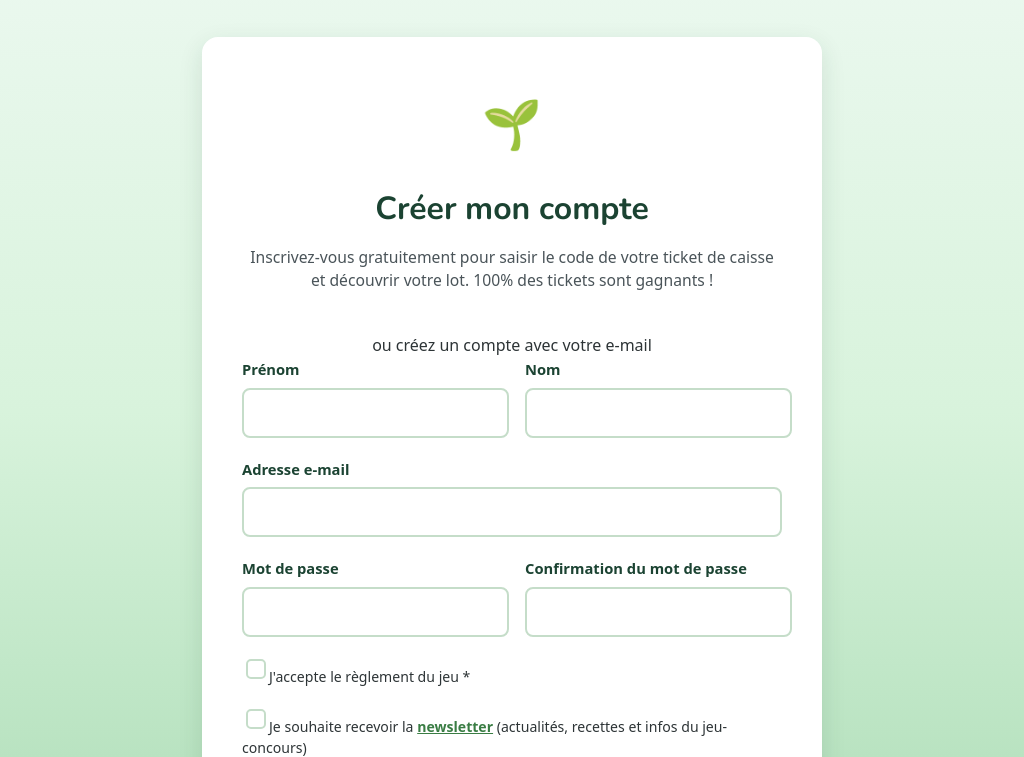
Inscription › affiche l’erreur renvoyée par l’API
In the field labelled "Prénom": (376,413) x1=242 y1=388 x2=509 y2=438, type "Jean"
In the field labelled "Nom": (658,413) x1=525 y1=388 x2=792 y2=438, type "Dupont"
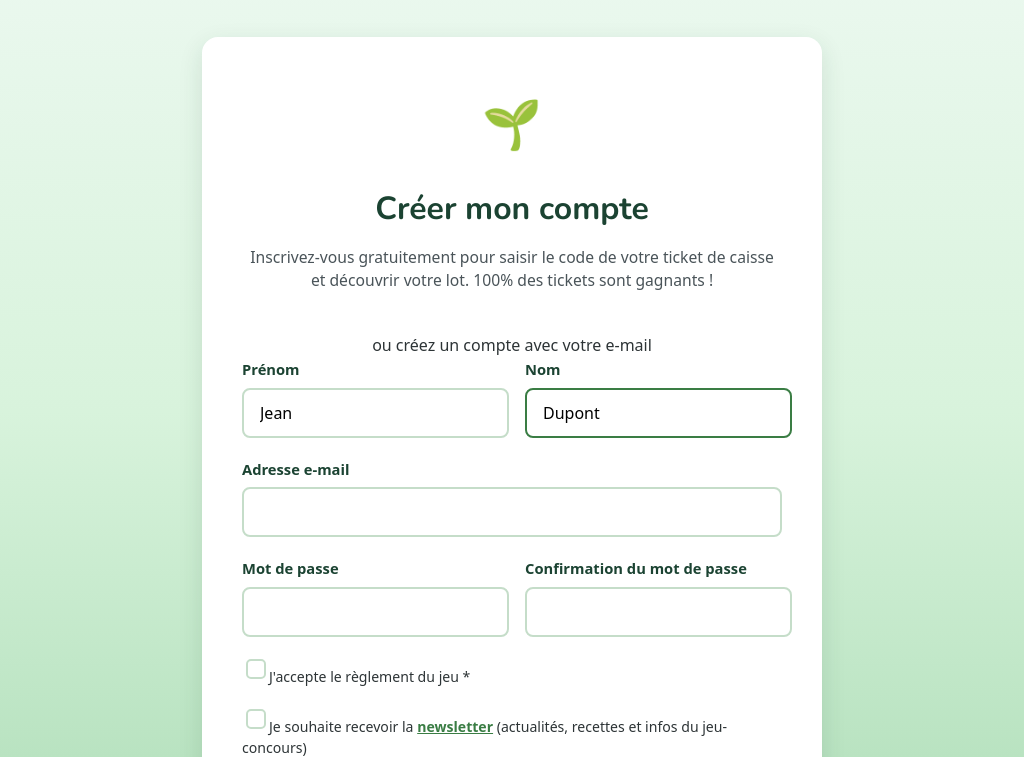
In the field labelled "Adresse e-mail": (512,512) x1=242 y1=487 x2=782 y2=537, type "jean@example.com"
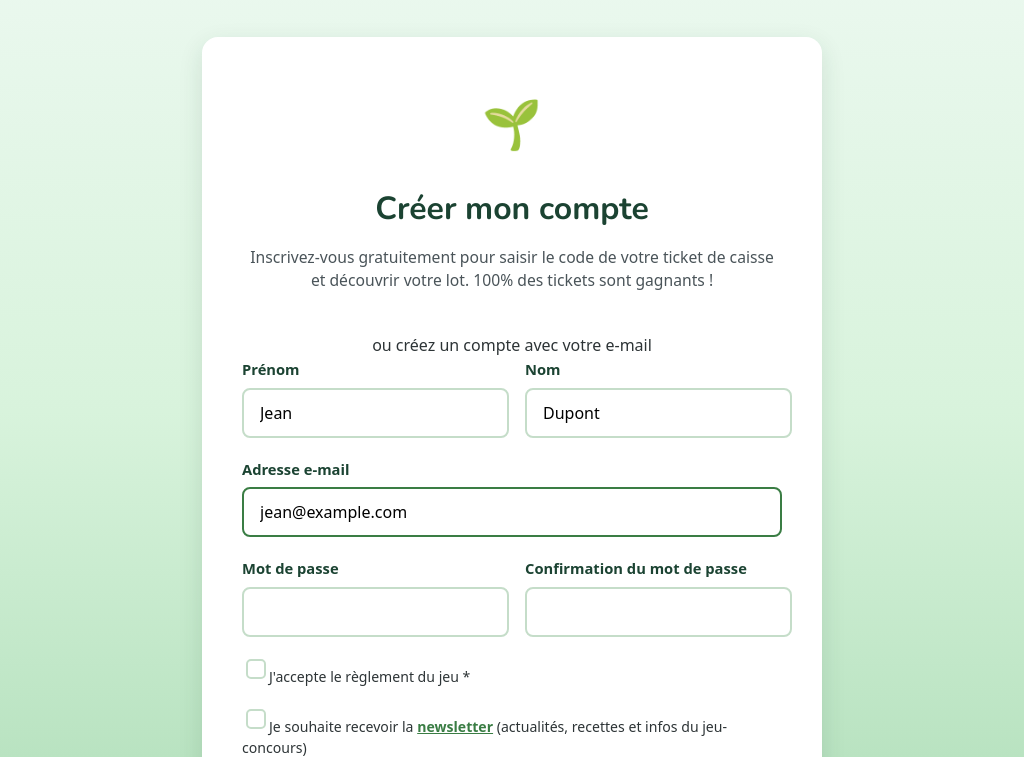
In the password field labelled "Mot de passe": (376,612) x1=242 y1=587 x2=509 y2=637, type "Password1!"
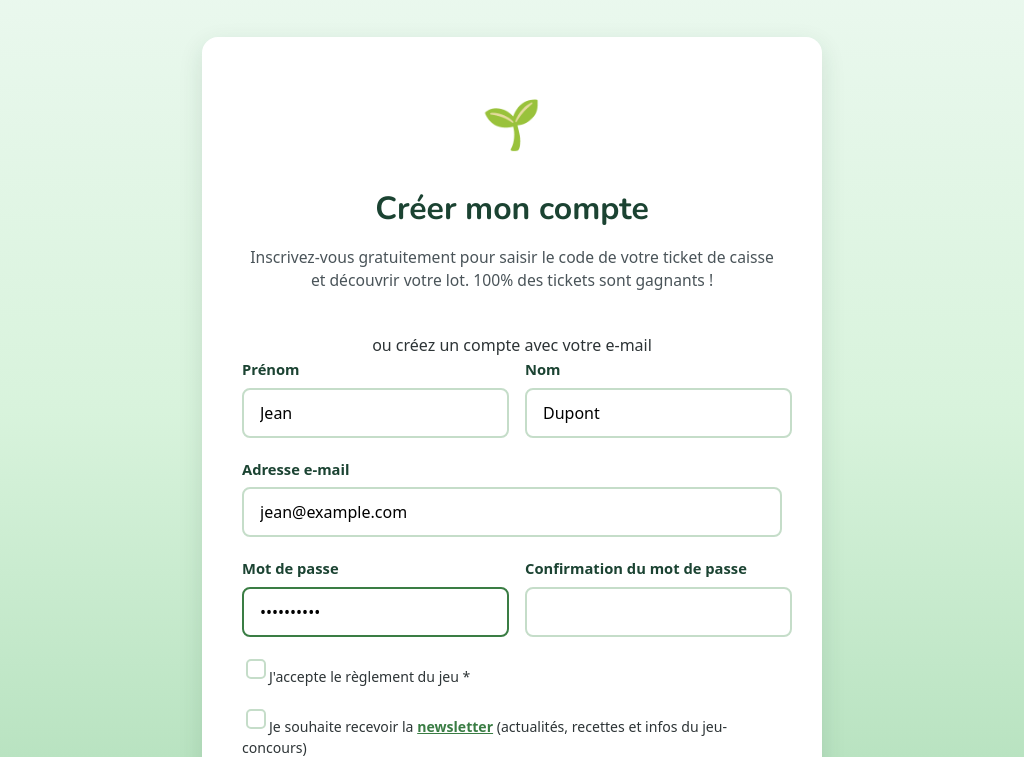
In the password field labelled "Confirmation du mot de passe": (658,612) x1=525 y1=587 x2=792 y2=637, type "Password1!"
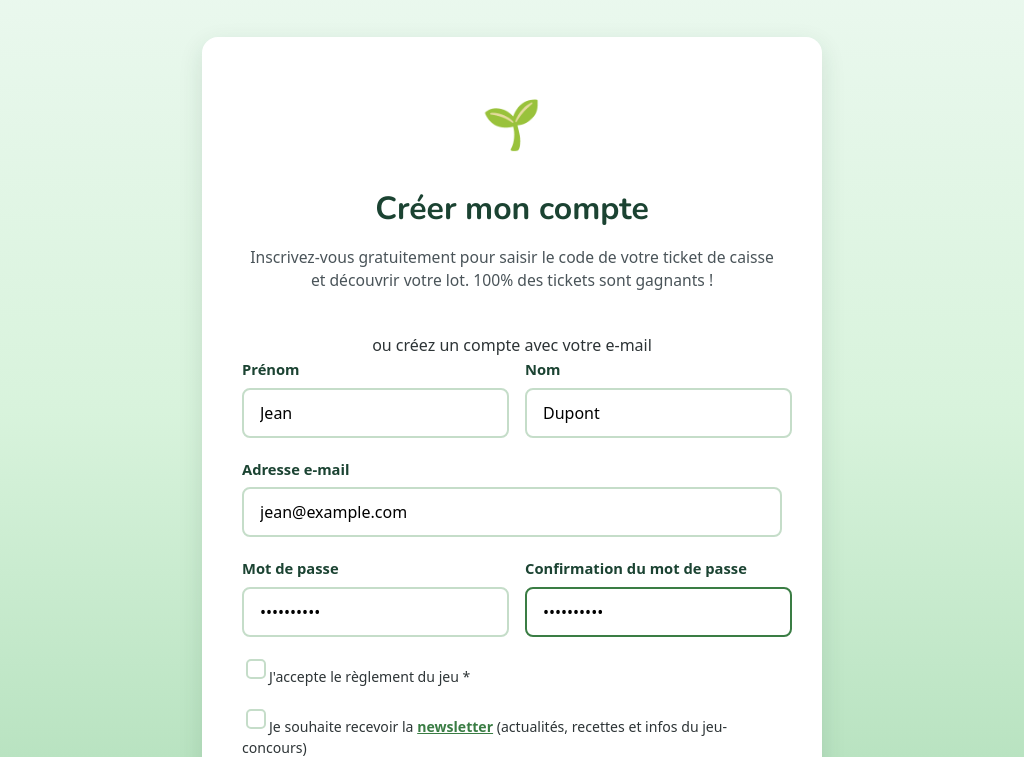
Click the checkbox labelled "J'accepte le règlement du jeu *": (256,669) x1=246 y1=659 x2=266 y2=679
(page scrolled)
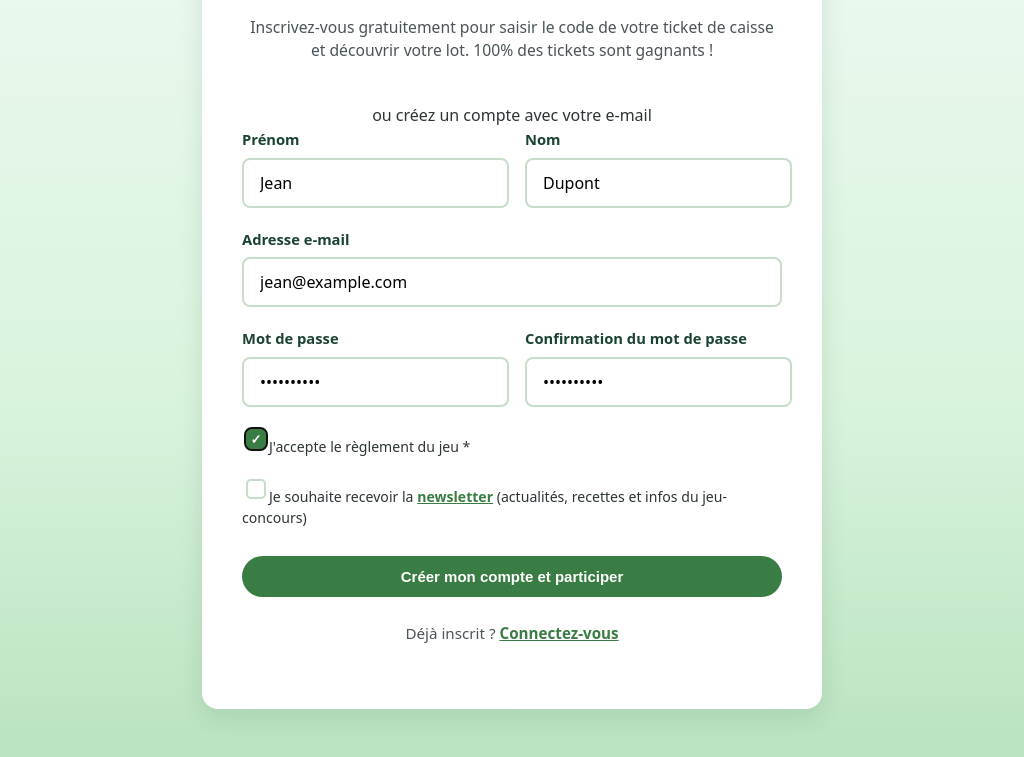
Click the button "Créer mon compte et participer": (512,577) x1=242 y1=556 x2=782 y2=597
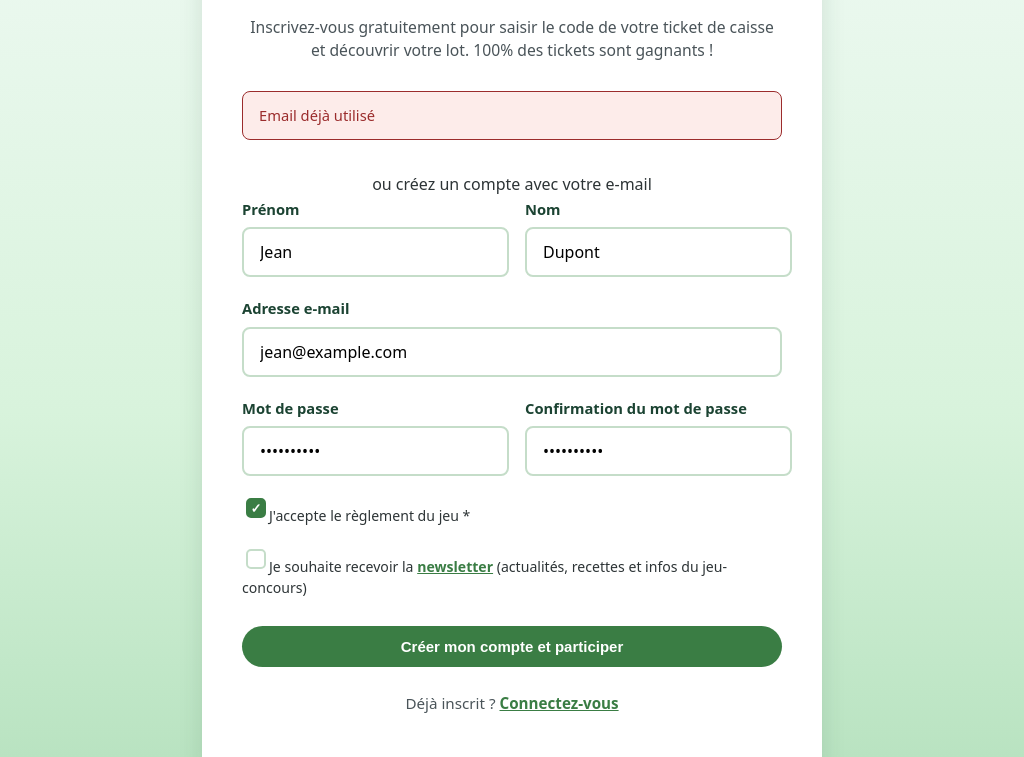
Now the message reads "Email déjà utilisé", box x1=259 y1=105 x2=375 y2=125
